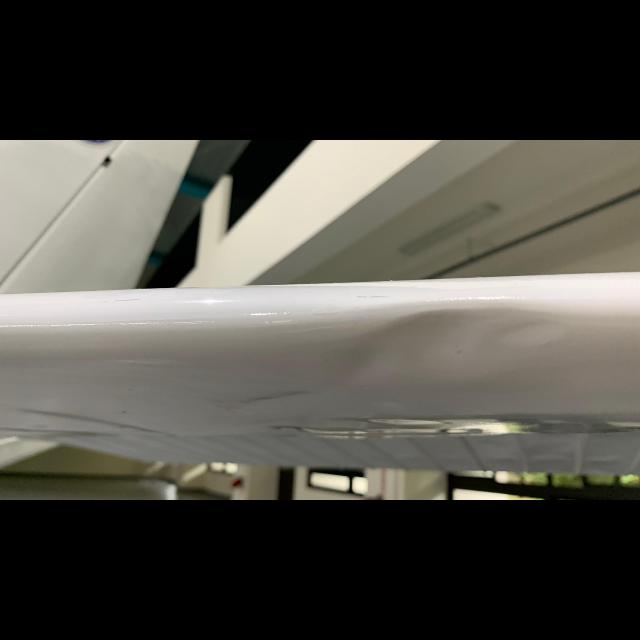dent: (322, 296, 596, 384)
